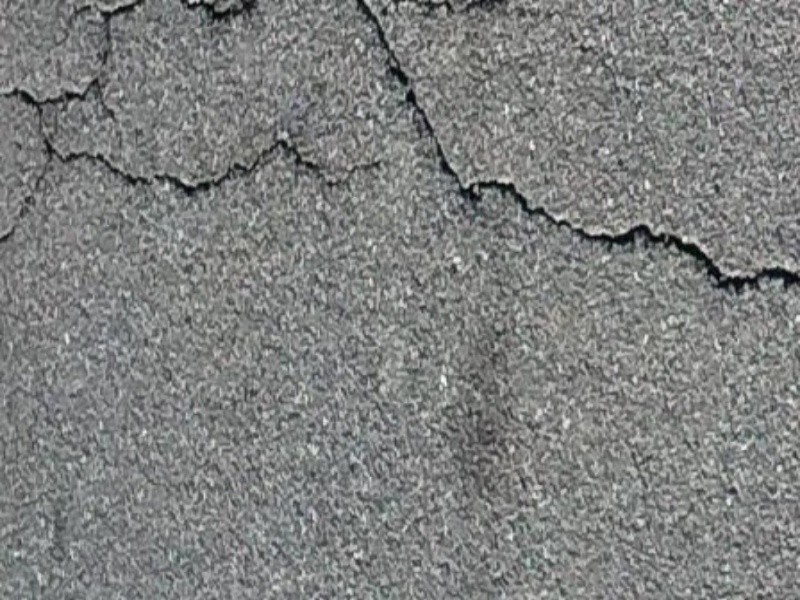crack: (363, 9, 791, 328), (7, 84, 387, 214), (73, 12, 149, 95)
